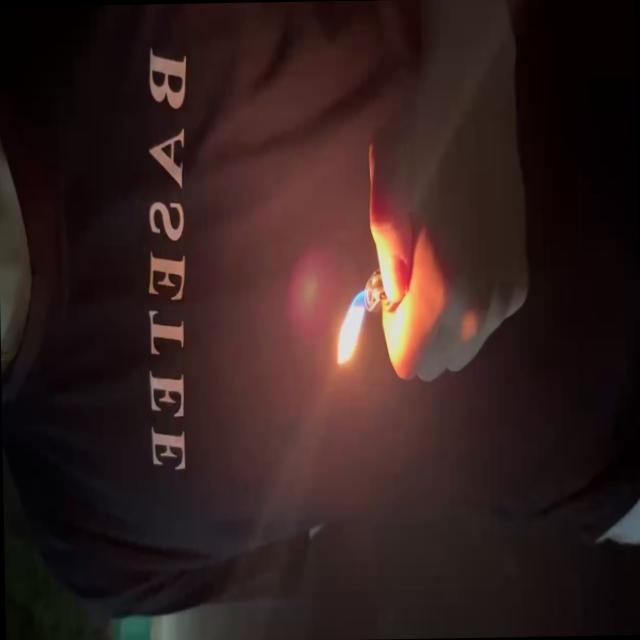Fire: (332, 292, 375, 364)
